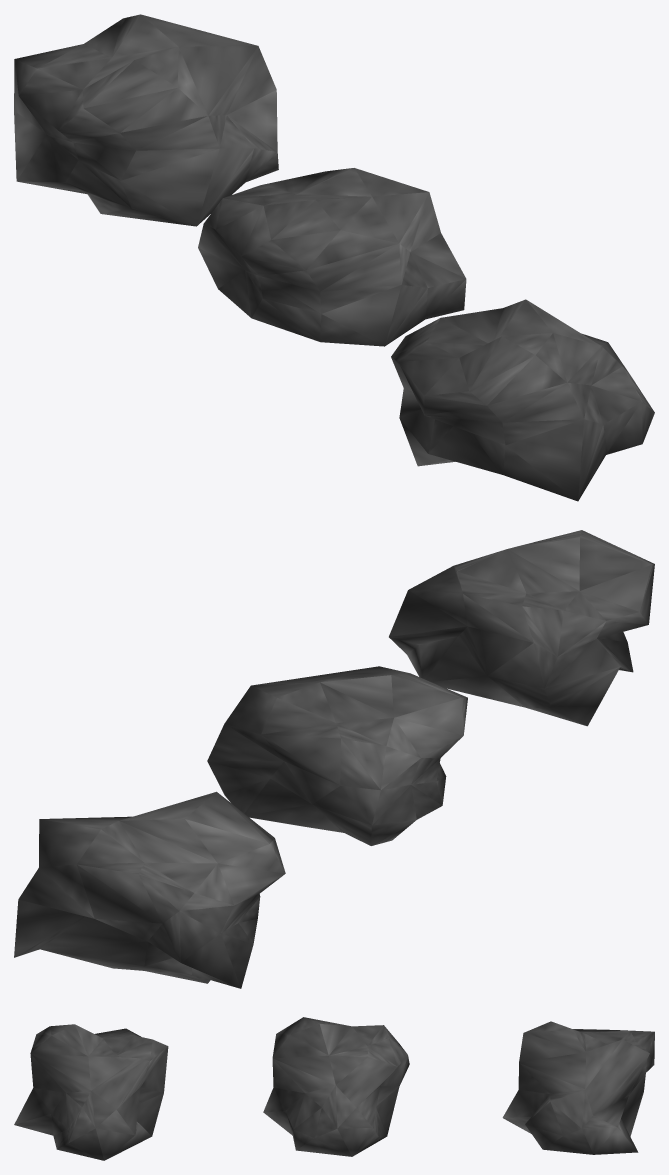
The model's file is Rocks.glb.
The picture shows the model from 3 angles, top to bottom: view 1: azimuth 30°, elevation 25°; view 2: azimuth 150°, elevation 25°; view 3: azimuth 270°, elevation 25°; orthographic projection. The views are drawn at different scales.
Visible parts, largest first — view 1: rock.001, rock.002, rock; view 2: rock.001, rock.002, rock; view 3: rock.002, rock.001, rock.
Boxes of the visible parts, x1,y1,x2,y2 form: rock.001: (14, 14, 278, 226); rock.002: (391, 299, 654, 501); rock: (198, 168, 466, 346); rock.001: (14, 791, 285, 988); rock.002: (389, 530, 654, 726); rock: (207, 666, 467, 845); rock.002: (14, 1024, 168, 1160); rock.001: (502, 1021, 654, 1154); rock: (263, 1017, 409, 1156).
Size of the model in its own units: 0.301 by 0.1999 by 1.12.
1 material, 1 textured.
